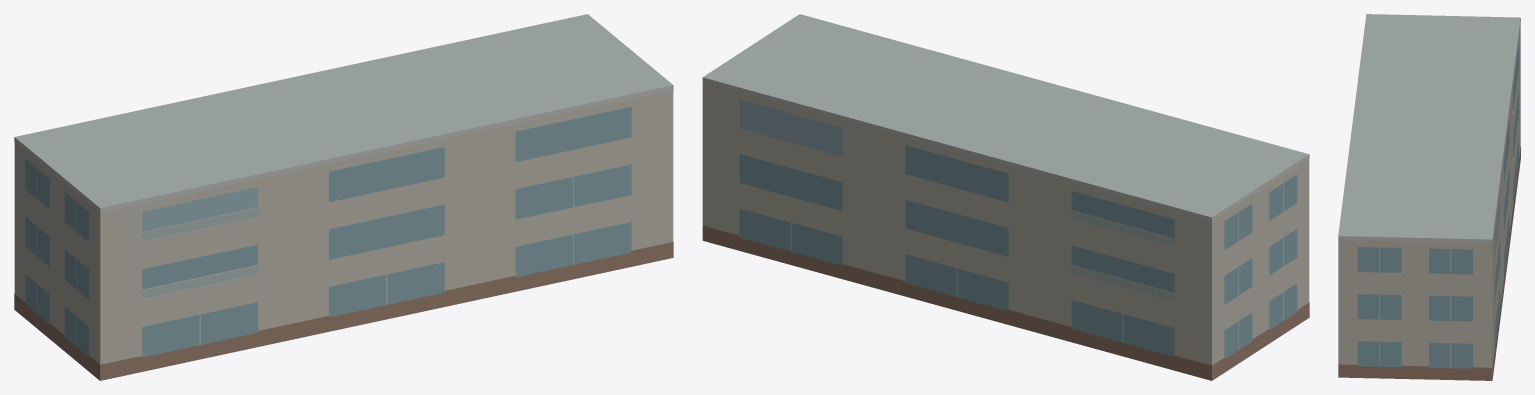
File: survey-upis-32695787.glb
3 views of the same model, side by side, from view 1: azimuth 30°, elevation 25°; view 2: azimuth 150°, elevation 25°; view 3: azimuth 270°, elevation 25° (orthographic). The views are drawn at different scales.
Visible parts, largest first — view 1: survey-upis-32695787.tmp; view 2: survey-upis-32695787.tmp; view 3: survey-upis-32695787.tmp.
Boxes of the visible parts, x1,y1,x2,y2 form: survey-upis-32695787.tmp: (14, 14, 673, 380); survey-upis-32695787.tmp: (702, 14, 1309, 380); survey-upis-32695787.tmp: (1338, 14, 1520, 380).
Bounding box in the file's own units: 31.31 × 9.15 × 10.72.
